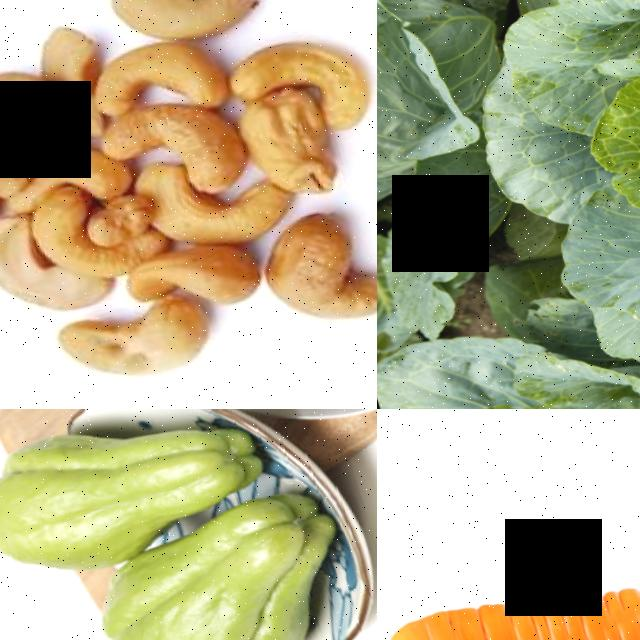cabbage: (465, 0, 640, 291), (437, 356, 640, 409)
carrot: (377, 452, 640, 640)
cashew: (27, 274, 237, 409), (244, 202, 377, 338), (131, 149, 289, 253), (110, 84, 235, 174), (237, 88, 338, 198), (91, 35, 216, 119), (93, 0, 267, 47), (0, 36, 69, 154), (24, 3, 102, 100), (35, 122, 123, 201), (0, 209, 54, 336), (16, 196, 93, 269), (0, 154, 40, 228)
chayote: (51, 508, 377, 640), (0, 409, 235, 576)
